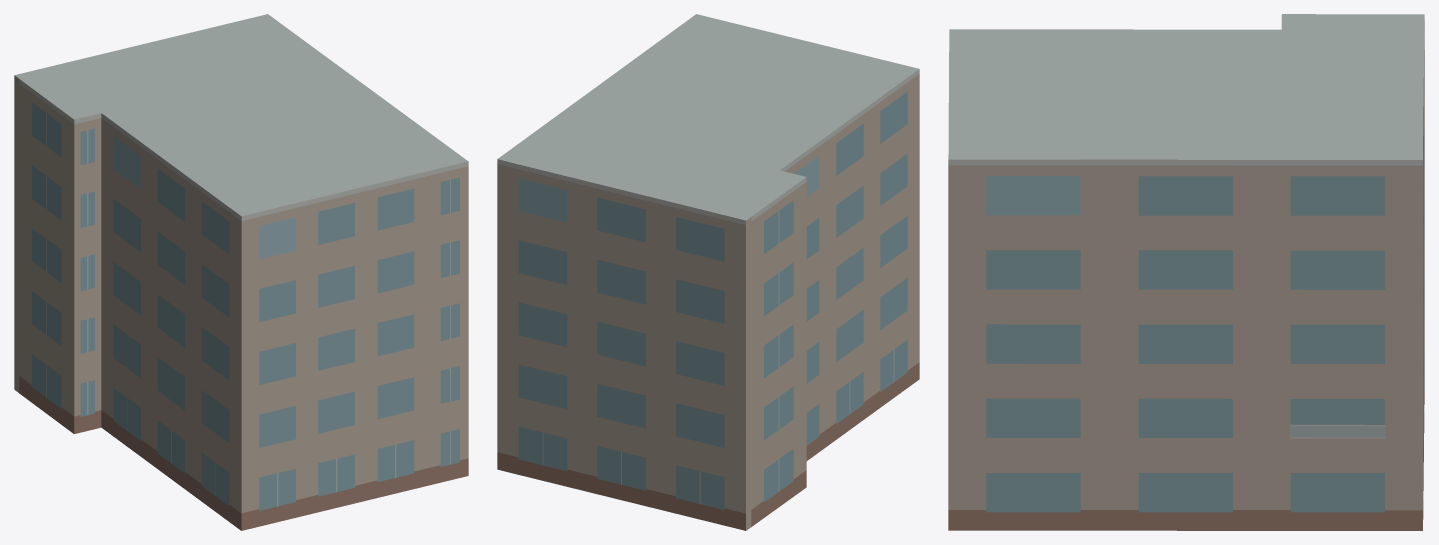
The model's file is survey-upis-33022012.glb.
3 views of the same model, side by side, from view 1: azimuth 30°, elevation 25°; view 2: azimuth 150°, elevation 25°; view 3: azimuth 270°, elevation 25° (orthographic). The views are drawn at different scales.
Visible parts, largest first — view 1: survey-upis-33022012.tmp; view 2: survey-upis-33022012.tmp; view 3: survey-upis-33022012.tmp.
Boxes of the visible parts, x1,y1,x2,y2 form: survey-upis-33022012.tmp: (14, 14, 468, 530); survey-upis-33022012.tmp: (497, 14, 919, 530); survey-upis-33022012.tmp: (948, 14, 1424, 530).
Bounding box in the file's own units: 13.54 × 16 × 18.63.
